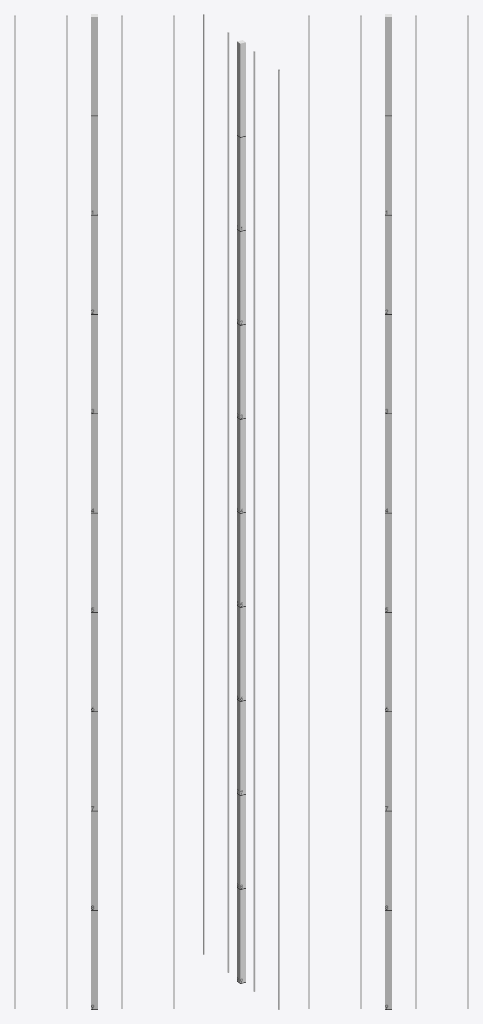
File: catenary_positioning_tool.obj
The picture shows the model from 3 angles, left to right: view 1: azimuth 90°, elevation 25°; view 2: azimuth 210°, elevation 25°; view 3: azimuth 270°, elevation 25°; orthographic projection. The views are drawn at different scales.
Visible parts, largest first — view 1: cuboid; view 2: cuboid; view 3: cuboid.
Part boxes in pixels (<box>): cuboid: <box>14,14,174,1009</box>; cuboid: <box>203,14,279,1009</box>; cuboid: <box>308,14,468,1009</box>.
Bounding box in the file's own units: 0.0625 × 10 × 1.46.
1 material, 1 textured.
